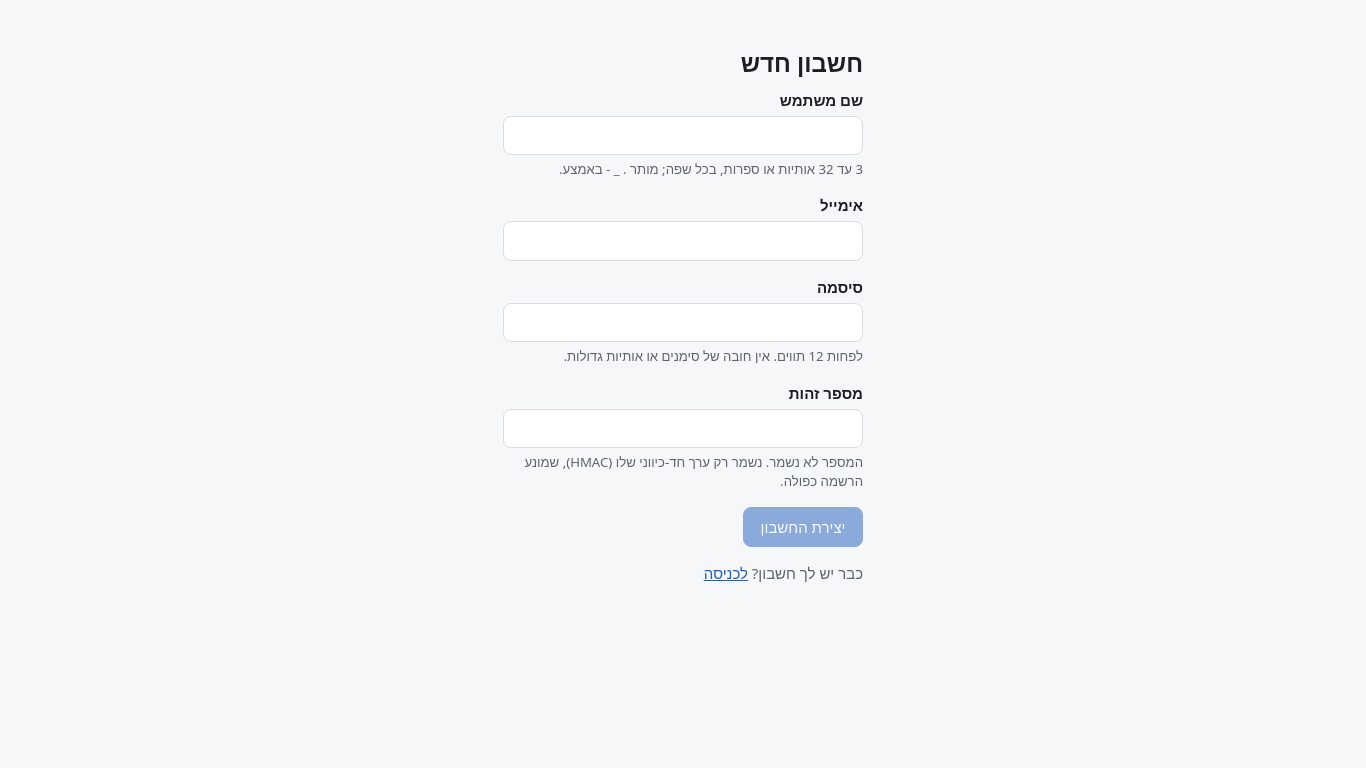
Test case: the navigation › signs a new account in after registration
This screenshot has width=1366, height=768.
Expected: the heading "חשבון חדש" is shown, [741, 46, 863, 79]
Type "noa" into the field labelled "שם משתמש" at (683, 135), box [503, 116, 863, 155]
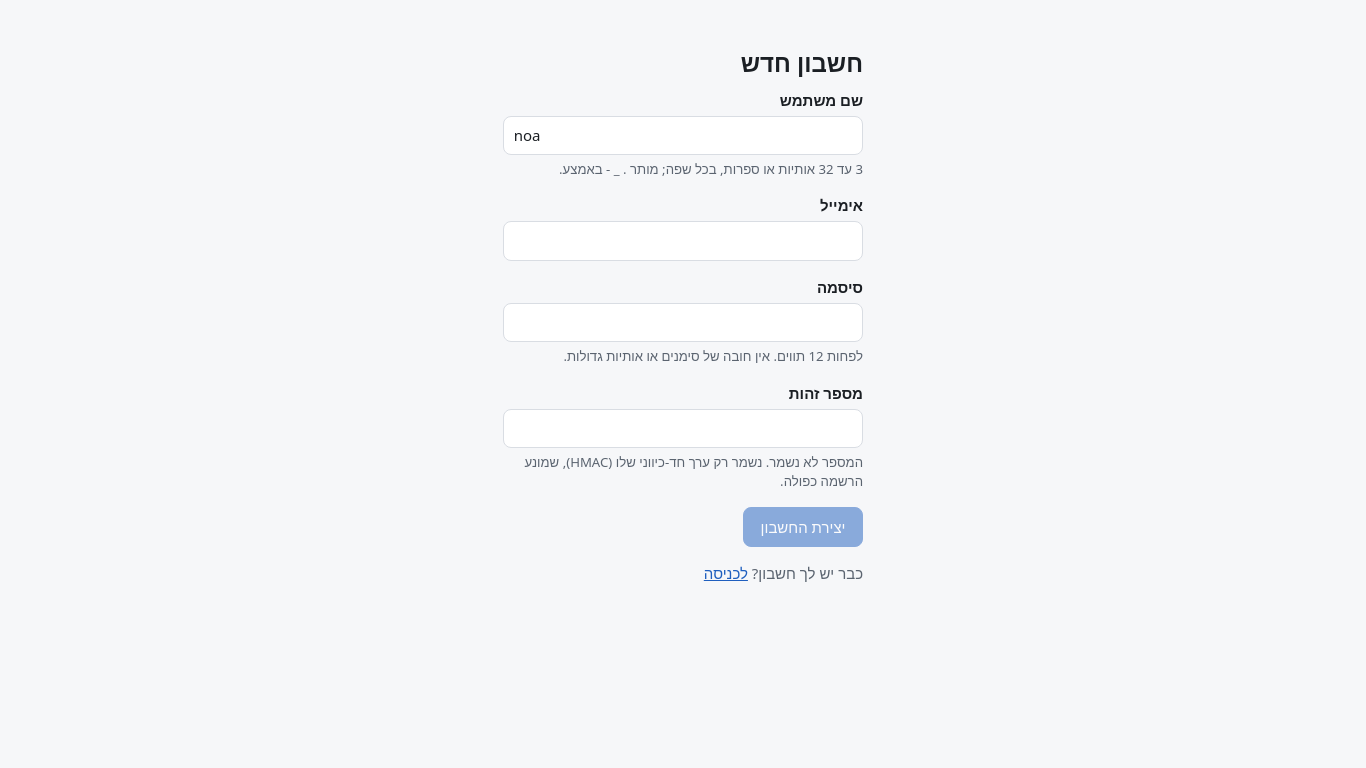
Type "noa@example.com" into the field labelled "אימייל" at (683, 241), box [503, 221, 863, 261]
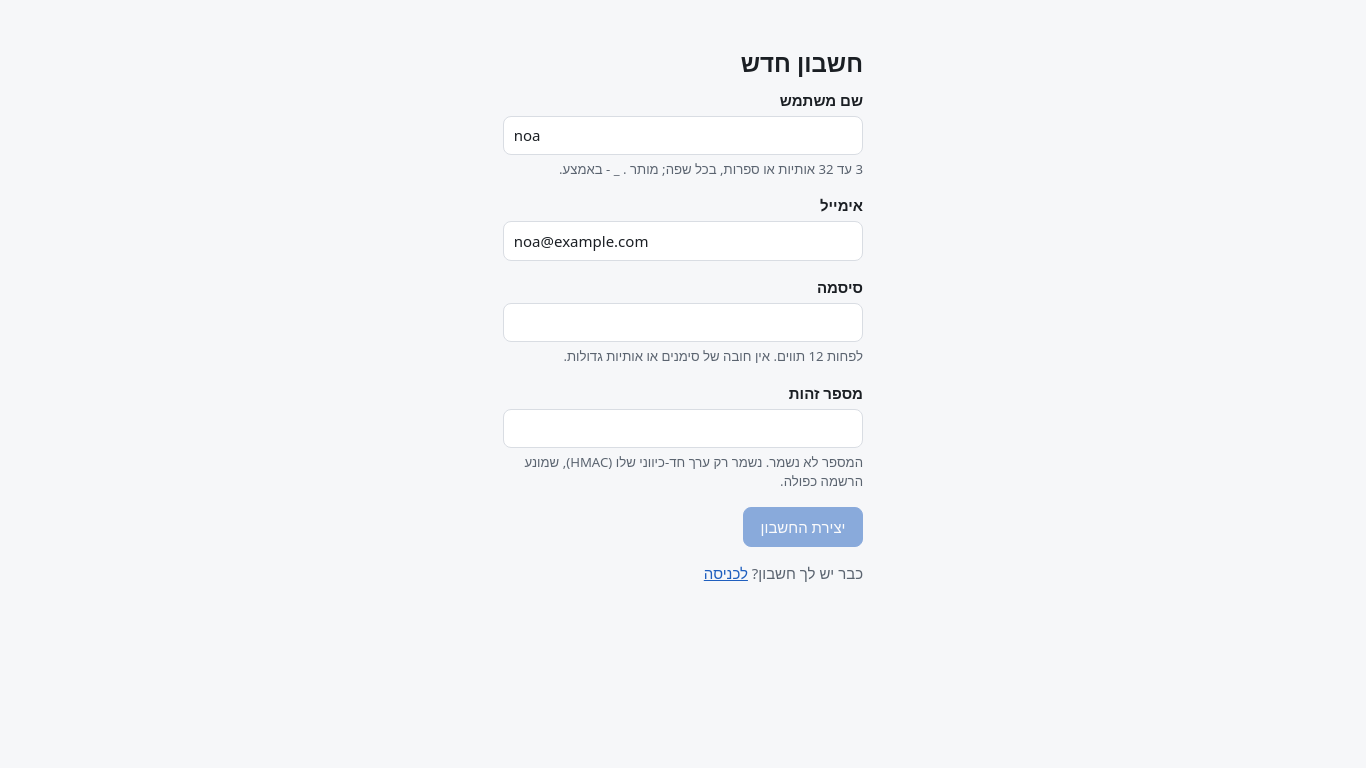
Type "a long password 1" into the password field labelled "סיסמה" at (683, 323), box [503, 303, 863, 342]
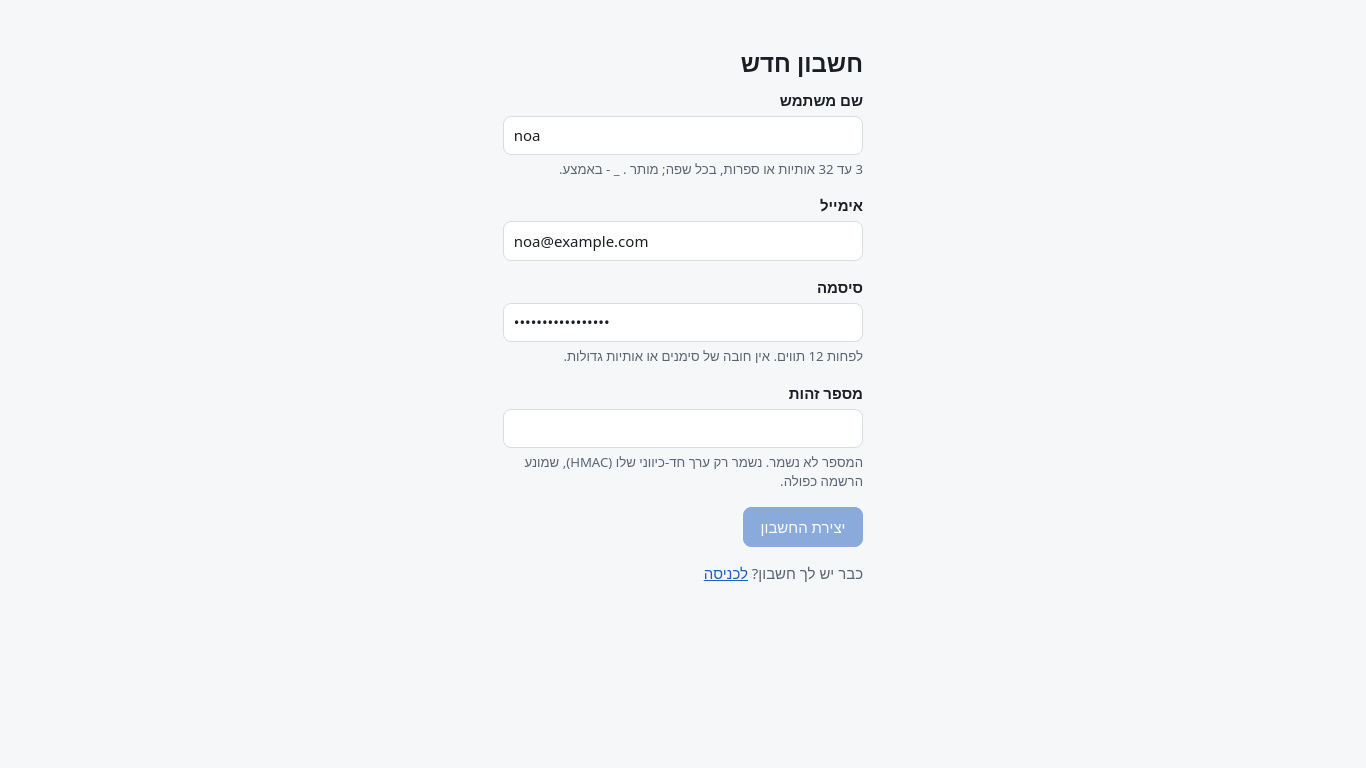
Type "000000018" into the field labelled "מספר זהות" at (683, 428), box [503, 409, 863, 448]
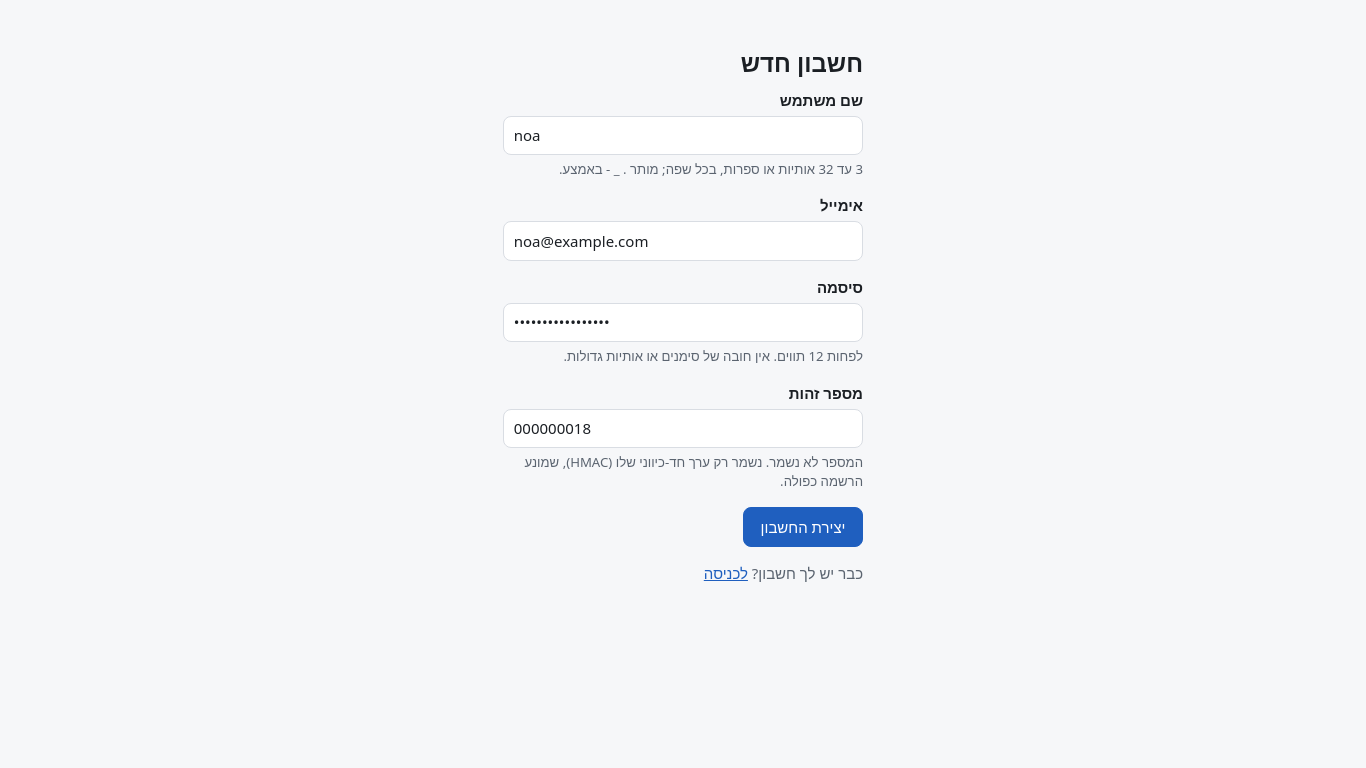
Click the button "יצירת החשבון" at (803, 527), box [743, 507, 863, 547]
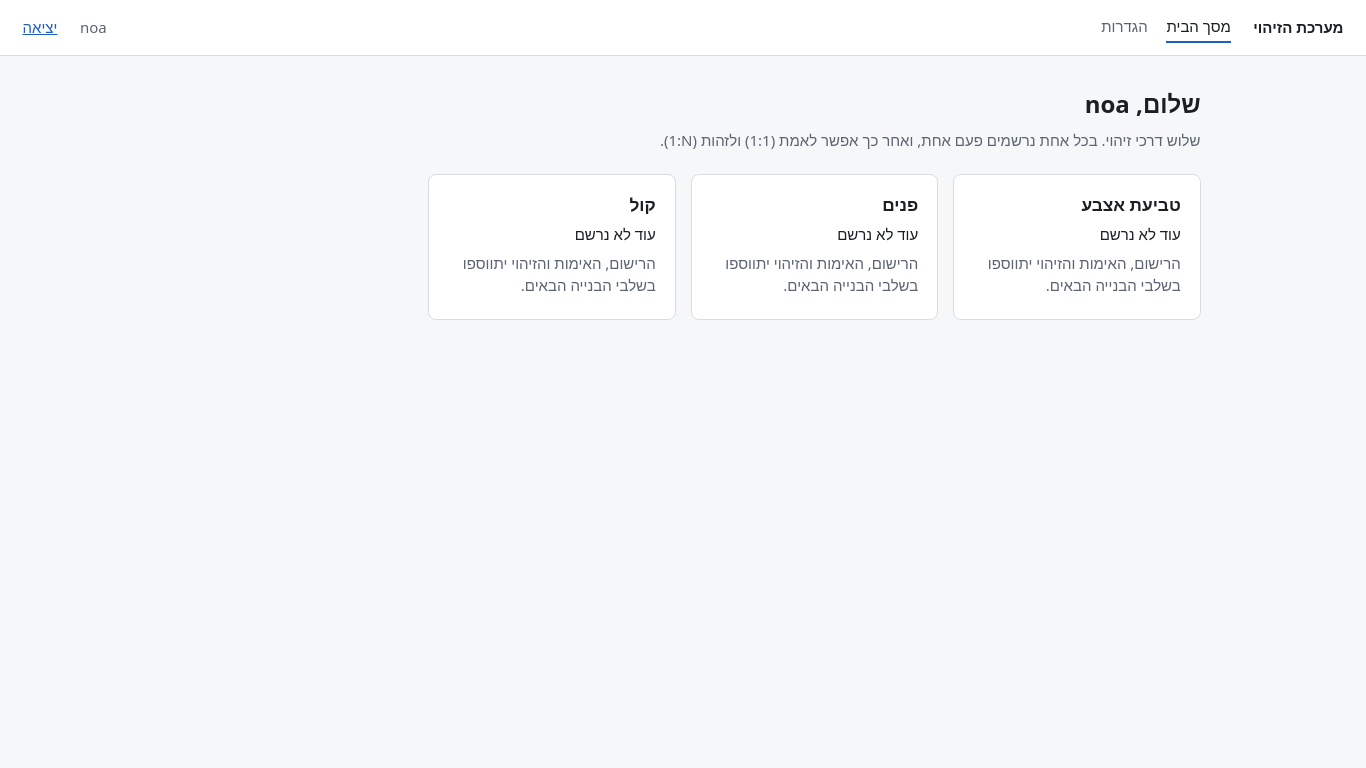
Expected: the heading "שלום, noa" is shown, [1085, 86, 1200, 120]
